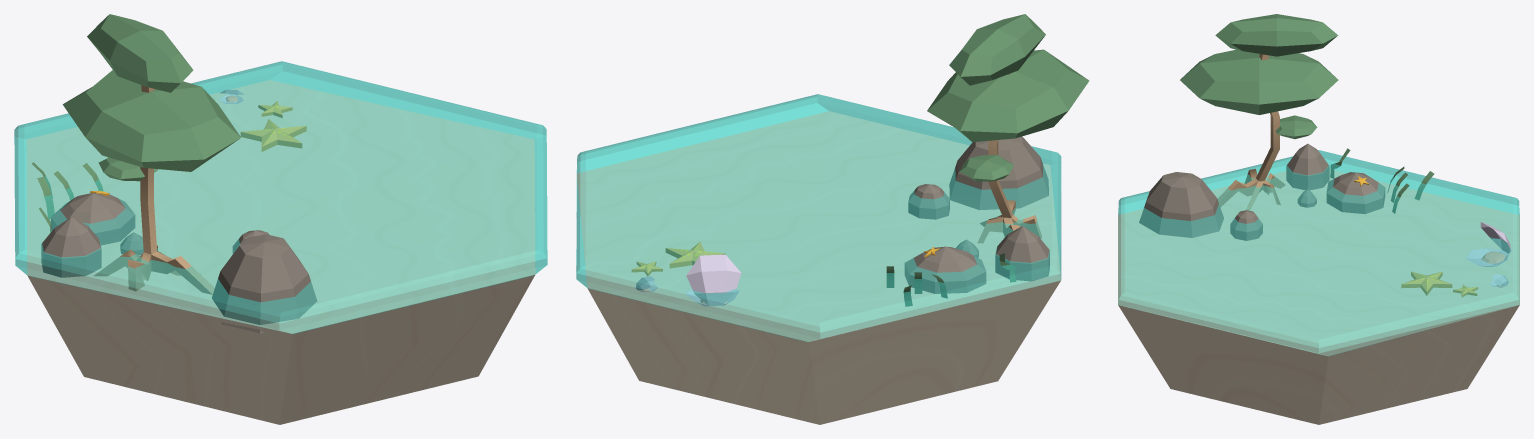
The model's file is Asset_TileBeach.fbx.
3 views of the same model, side by side, from view 1: azimuth 30°, elevation 25°; view 2: azimuth 150°, elevation 25°; view 3: azimuth 270°, elevation 25° (orthographic). The views are drawn at different scales.
Visible parts, largest first — view 1: PolySurface_TilePlain_02, PolySurface_TilePlain_01, PolySurface_Tree, PolySurface_Rock_05, PolySurface_Rock_01, PolySurface_Rock_02, PolySurface_Star_02; view 2: PolySurface_TilePlain_02, PolySurface_TilePlain_01, PolySurface_Tree, PolySurface_Rock_05, PolySurface_Rock_02, STP_sea_shell, PolySurface_Rock_01, PolySurface_Rock_04, PolySurface_Star_02; view 3: PolySurface_TilePlain_02, PolySurface_TilePlain_01, PolySurface_Tree, PolySurface_Rock_05, PolySurface_Rock_02, PolySurface_Rock_01, STP_sea_shell, PolySurface_Rock_04, PolySurface_Star_02.
Boxes of the visible parts, x1=… form: PolySurface_TilePlain_02: x1=26, y1=80, x2=535, y2=424; PolySurface_TilePlain_01: x1=14, y1=61, x2=547, y2=333; PolySurface_Tree: x1=62, y1=14, x2=240, y2=294; PolySurface_Rock_05: x1=212, y1=234, x2=316, y2=333; PolySurface_Rock_01: x1=41, y1=217, x2=101, y2=277; PolySurface_Rock_02: x1=51, y1=193, x2=135, y2=245; PolySurface_Star_02: x1=240, y1=119, x2=306, y2=151; PolySurface_TilePlain_02: x1=576, y1=111, x2=1060, y2=424; PolySurface_TilePlain_01: x1=576, y1=94, x2=1061, y2=341; PolySurface_Tree: x1=927, y1=14, x2=1089, y2=243; PolySurface_Rock_05: x1=949, y1=136, x2=1048, y2=210; PolySurface_Rock_02: x1=904, y1=246, x2=986, y2=293; STP_sea_shell: x1=685, y1=254, x2=741, y2=306; PolySurface_Rock_01: x1=995, y1=226, x2=1049, y2=281; PolySurface_Rock_04: x1=908, y1=184, x2=949, y2=219; PolySurface_Star_02: x1=665, y1=242, x2=725, y2=268; PolySurface_TilePlain_02: x1=1118, y1=170, x2=1519, y2=424; PolySurface_TilePlain_01: x1=1118, y1=150, x2=1519, y2=356; PolySurface_Tree: x1=1180, y1=14, x2=1338, y2=210; PolySurface_Rock_05: x1=1139, y1=172, x2=1223, y2=237; PolySurface_Rock_02: x1=1326, y1=172, x2=1385, y2=213; PolySurface_Rock_01: x1=1286, y1=143, x2=1329, y2=190; STP_sea_shell: x1=1465, y1=222, x2=1511, y2=266; PolySurface_Rock_04: x1=1230, y1=210, x2=1262, y2=240; PolySurface_Star_02: x1=1401, y1=271, x2=1452, y2=295.
Bounding box in the file's own units: 436 × 282 × 378.
